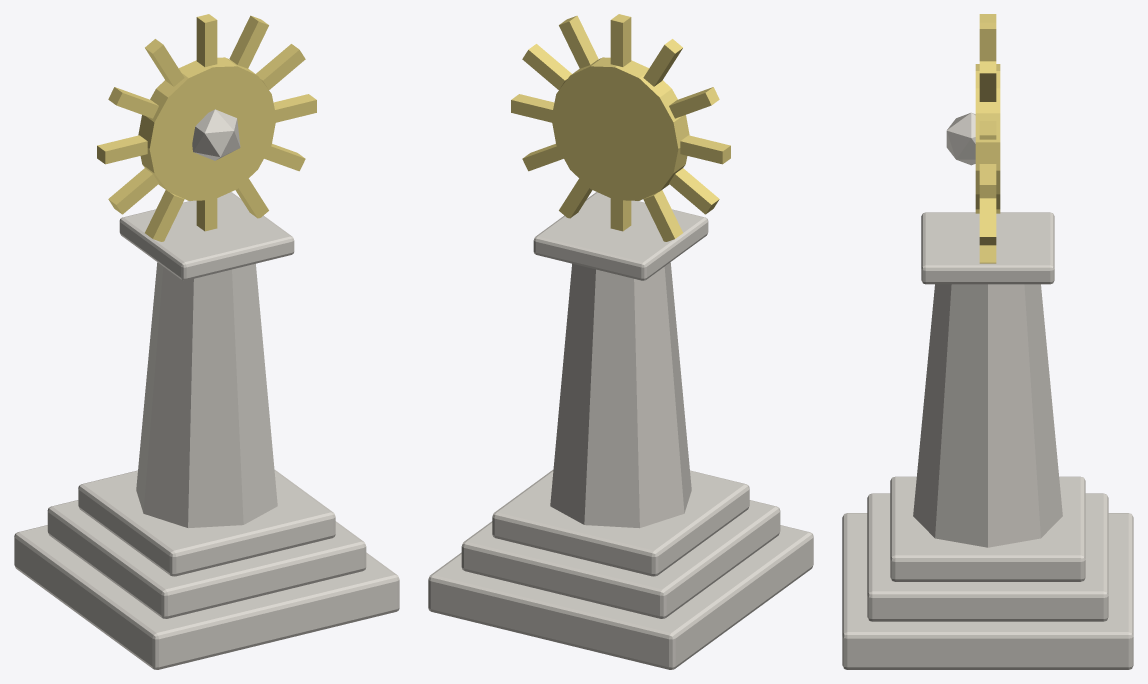
Rendered from MachuPicchu_Rey.fbx.
The picture shows the model from 3 angles, left to right: view 1: azimuth 30°, elevation 25°; view 2: azimuth 150°, elevation 25°; view 3: azimuth 270°, elevation 25°; orthographic projection. The views are drawn at different scales.
Parts seen in each view (by area): view 1: MachuPicchu_Rey; view 2: MachuPicchu_Rey; view 3: MachuPicchu_Rey.
Boxes of the visible parts, x1=… form: MachuPicchu_Rey: x1=14, y1=14, x2=399, y2=669; MachuPicchu_Rey: x1=428, y1=14, x2=813, y2=669; MachuPicchu_Rey: x1=842, y1=14, x2=1133, y2=669.
Size of the model in its own units: 0.7 by 1.55 by 0.7.
